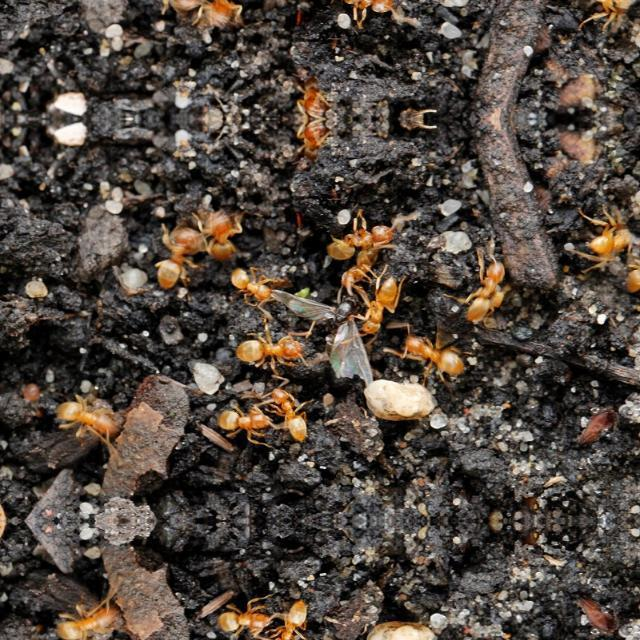Lasius: (348, 269, 412, 339), (144, 221, 204, 293), (466, 246, 524, 320), (391, 323, 471, 373), (54, 392, 124, 448), (232, 320, 312, 366), (262, 374, 314, 444), (53, 592, 124, 640), (334, 207, 392, 259), (332, 240, 386, 290), (210, 401, 280, 439), (210, 601, 280, 639), (262, 594, 314, 640), (205, 202, 253, 250), (279, 118, 339, 154), (279, 82, 339, 118), (232, 261, 278, 305), (586, 212, 640, 245), (205, 0, 253, 34), (334, 0, 392, 28), (585, 0, 638, 22), (621, 245, 639, 302), (144, 0, 204, 14)
